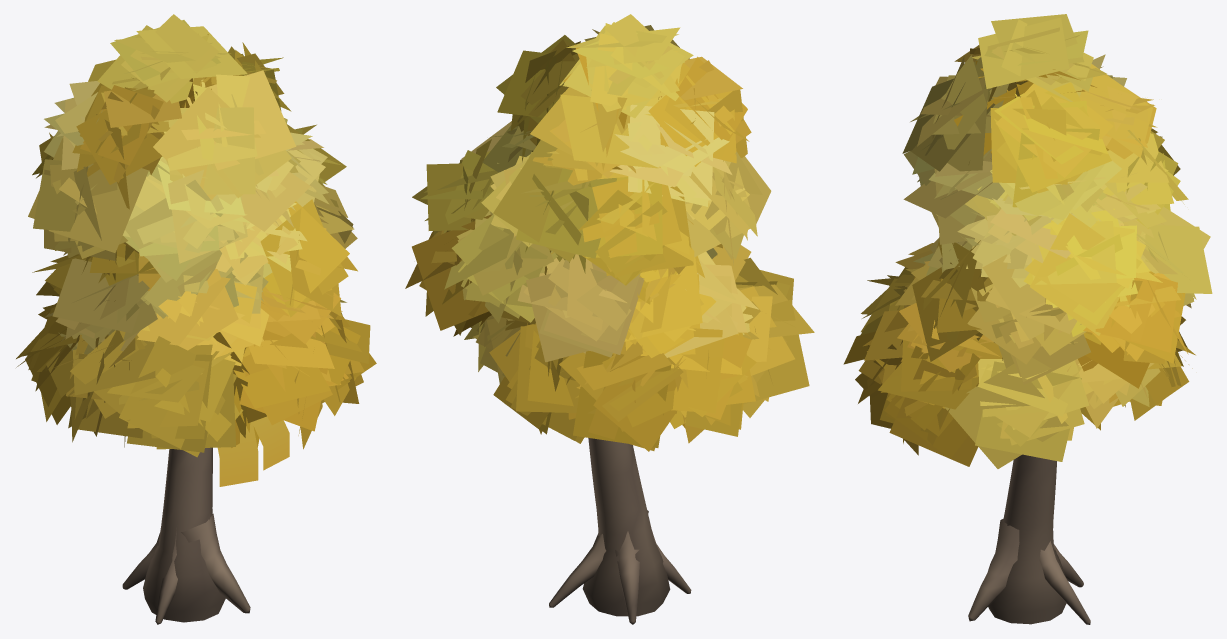
File: tree-village-ginkgo-v0.glb
The picture shows the model from 3 angles, left to right: view 1: azimuth 30°, elevation 25°; view 2: azimuth 150°, elevation 25°; view 3: azimuth 270°, elevation 25°; orthographic projection.
Parts seen in each view (by area): view 1: cards_ginkgo, bark; view 2: cards_ginkgo, bark; view 3: cards_ginkgo, bark.
Part boxes in pixels (x1=…): cards_ginkgo: x1=16, y1=14, x2=376, y2=486; bark: x1=122, y1=447, x2=250, y2=624; cards_ginkgo: x1=405, y1=14, x2=814, y2=451; bark: x1=549, y1=438, x2=691, y2=624; cards_ginkgo: x1=843, y1=14, x2=1212, y2=468; bark: x1=968, y1=454, x2=1090, y2=624.
Bounding box in the file's own units: 3.99 × 6.72 × 3.85.
